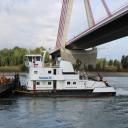tugboat: (15, 50, 118, 101)
